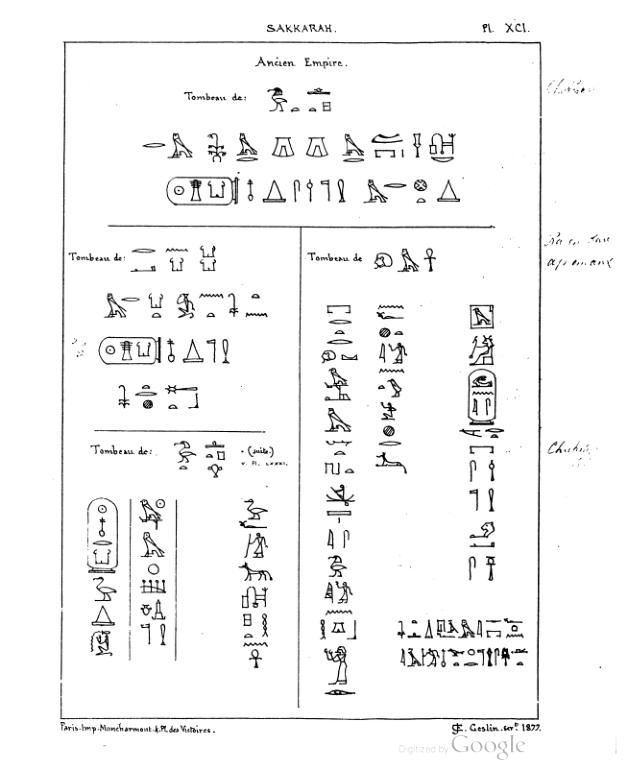circle: (82, 494, 122, 577), (162, 173, 243, 209), (91, 331, 165, 370), (463, 367, 502, 426)
